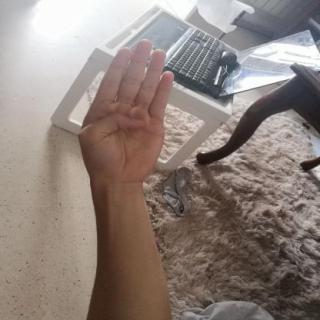KAAF: (64, 30, 189, 192)
